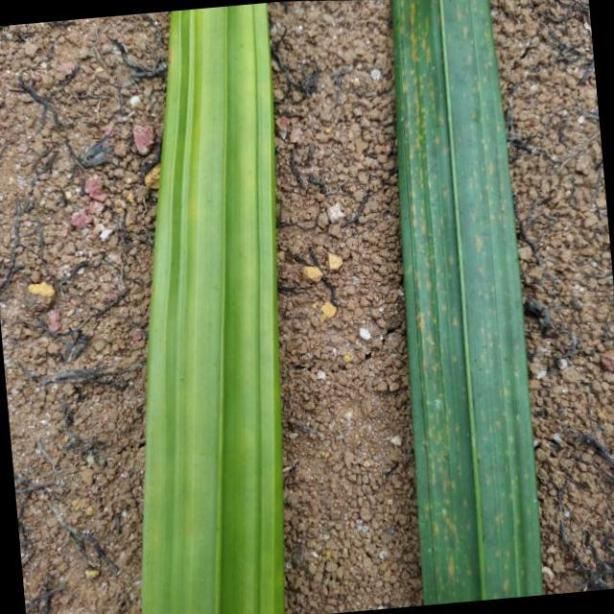nitrogen: (385, 0, 547, 614), (136, 0, 281, 614)
